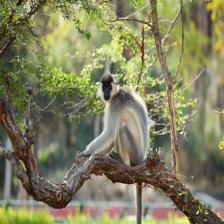monkey: (94, 73, 152, 171)
